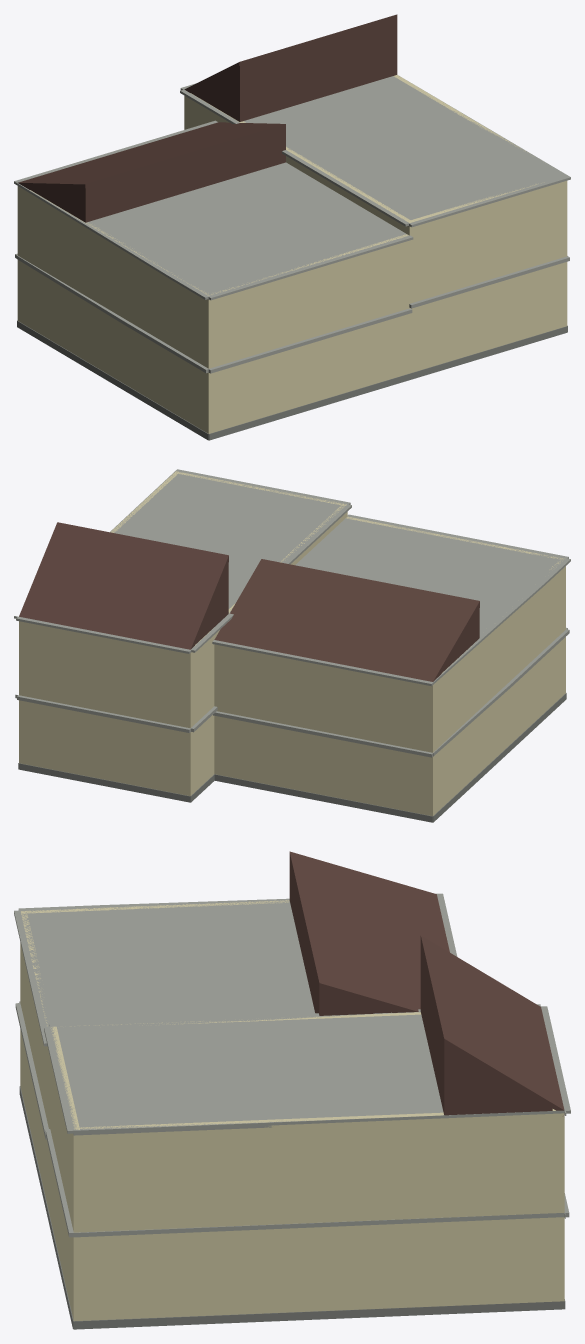
File: building.glb
The picture shows the model from 3 angles, top to bottom: view 1: azimuth 30°, elevation 25°; view 2: azimuth 150°, elevation 25°; view 3: azimuth 270°, elevation 25°; orthographic projection. The views are drawn at different scales.
Parts seen in each view (by area): view 1: garden_rear:0/edge1/z0/garden_rear:0/edge1/z0/wall_0_0, roof/street_rear:0/roof_slab#0001, street_rear:0/edge1/z0/street_rear:0/edge1/z0/wall_0_0, roof/garden_rear:0/roof_slab#0001, garden_rear:0/edge0/z0/garden_rear:0/edge0/z0/wall_0_0, roof/street_front:0/tile_ridge#0001, garden_front:0/edge0/z0/garden_front:0/edge0/z0/wall_0_0, roof/garden_front:0/tile_ridge#0001, roof/garden_front:0/tile_roof#0001, garden_rear:0/edge1/z0/plinth#0001, street_rear:0/edge0/z0/street_rear:0/edge0/z0/wall_0_0, garden_rear:0/edge1/z0/floor_slab#0001 (+11 smaller); view 2: garden_front:0/edge3/z0/garden_front:0/edge3/z0/wall_0_0, street_front:0/edge3/z0/street_front:0/edge3/z0/wall_0_0, roof/garden_front:0/tile_roof#0001, roof/street_front:0/tile_roof#0001, roof/garden_rear:0/roof_slab#0001, roof/street_rear:0/roof_slab#0001, garden_rear:0/edge0/z0/garden_rear:0/edge0/z0/wall_0_0, garden_front:0/edge0/z0/garden_front:0/edge0/z0/wall_0_0, street_front:0/edge0/z0/street_front:0/edge0/z0/wall_0_0, garden_front:0/edge3/z0/plinth#0001, garden_front:0/edge3/z0/floor_slab#0001, street_front:0/edge3/z0/plinth#0001 (+15 smaller); view 3: street_rear:0/edge2/z0/street_rear:0/edge2/z0/wall_0_0, roof/street_rear:0/roof_slab#0001, roof/garden_rear:0/roof_slab#0001, street_front:0/edge2/z0/street_front:0/edge2/z0/wall_0_0/cor, roof/garden_front:0/tile_roof#0001, roof/street_front:0/tile_roof#0001, roof/street_front:0/tile_ridge#0001, street_rear:0/edge1/z0/street_rear:0/edge1/z0/wall_0_0, garden_rear:0/edge1/z0/garden_rear:0/edge1/z0/wall_0_0, street_rear:0/edge2/z0/plinth#0001, roof/garden_front:0/tile_ridge#0001, street_rear:0/edge2/z0/floor_slab#0001 (+11 smaller).
Part boxes in pixels (x1,y1,x2,y2): garden_rear:0/edge1/z0/garden_rear:0/edge1/z0/wall_0_0: [206, 234, 409, 433]; roof/street_rear:0/roof_slab#0001: [243, 76, 566, 226]; street_rear:0/edge1/z0/street_rear:0/edge1/z0/wall_0_0: [407, 181, 567, 373]; roof/garden_rear:0/roof_slab#0001: [86, 162, 408, 299]; garden_rear:0/edge0/z0/garden_rear:0/edge0/z0/wall_0_0: [85, 222, 212, 433]; roof/street_front:0/tile_ridge#0001: [191, 18, 397, 121]; garden_front:0/edge0/z0/garden_front:0/edge0/z0/wall_0_0: [17, 186, 85, 360]; roof/garden_front:0/tile_ridge#0001: [31, 128, 285, 222]; roof/garden_front:0/tile_roof#0001: [18, 122, 285, 188]; garden_rear:0/edge1/z0/plinth#0001: [208, 373, 409, 440]; street_rear:0/edge0/z0/street_rear:0/edge0/z0/wall_0_0: [240, 121, 413, 234]; garden_rear:0/edge1/z0/floor_slab#0001: [208, 308, 412, 373]; garden_front:0/edge3/z0/garden_front:0/edge3/z0/wall_0_0: [214, 644, 433, 815]; street_front:0/edge3/z0/street_front:0/edge3/z0/wall_0_0: [19, 622, 192, 796]; roof/garden_front:0/tile_roof#0001: [214, 559, 479, 681]; roof/street_front:0/tile_roof#0001: [19, 522, 228, 649]; roof/garden_rear:0/roof_slab#0001: [295, 517, 564, 637]; roof/street_rear:0/roof_slab#0001: [111, 472, 345, 612]; garden_rear:0/edge0/z0/garden_rear:0/edge0/z0/wall_0_0: [480, 558, 565, 772]; garden_front:0/edge0/z0/garden_front:0/edge0/z0/wall_0_0: [428, 643, 479, 816]; street_front:0/edge0/z0/street_front:0/edge0/z0/wall_0_0: [187, 629, 219, 795]; garden_front:0/edge3/z0/plinth#0001: [214, 774, 432, 822]; garden_front:0/edge3/z0/floor_slab#0001: [213, 711, 432, 757]; street_front:0/edge3/z0/plinth#0001: [18, 763, 190, 802]; street_rear:0/edge2/z0/street_rear:0/edge2/z0/wall_0_0: [73, 1112, 444, 1320]; roof/street_rear:0/roof_slab#0001: [50, 1013, 443, 1135]; roof/garden_rear:0/roof_slab#0001: [21, 900, 314, 1026]; street_front:0/edge2/z0/street_front:0/edge2/z0/wall_0_0/cor: [444, 1109, 564, 1306]; roof/garden_front:0/tile_roof#0001: [289, 851, 449, 1012]; roof/street_front:0/tile_roof#0001: [420, 935, 564, 1114]; roof/street_front:0/tile_ridge#0001: [420, 941, 552, 1115]; street_rear:0/edge1/z0/street_rear:0/edge1/z0/wall_0_0: [50, 1026, 79, 1320]; garden_rear:0/edge1/z0/garden_rear:0/edge1/z0/wall_0_0: [20, 913, 50, 1216]; street_rear:0/edge2/z0/plinth#0001: [73, 1306, 444, 1329]; roof/garden_front:0/tile_ridge#0001: [289, 858, 390, 1015]; street_rear:0/edge2/z0/floor_slab#0001: [73, 1217, 444, 1237].
Bounding box in the file's own units: 18.85 × 9.56 × 17.51.
